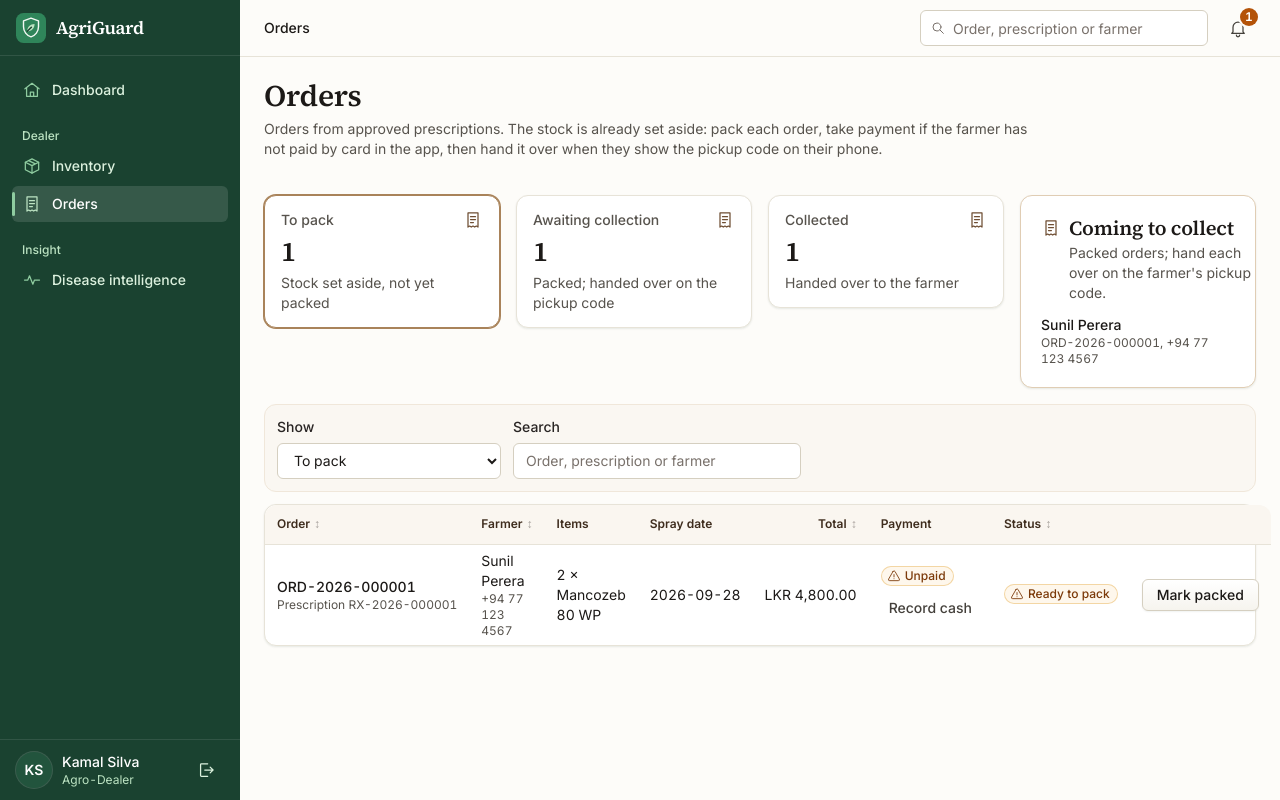
Test case: OrdersPage › records cash taken at the counter after the dealer confirms the amount
The width and height of the screenshot is (1280, 800).
Click the button with aria-label "Record cash: ORD-2026-000001": click(930, 608) [881,592,980,624]
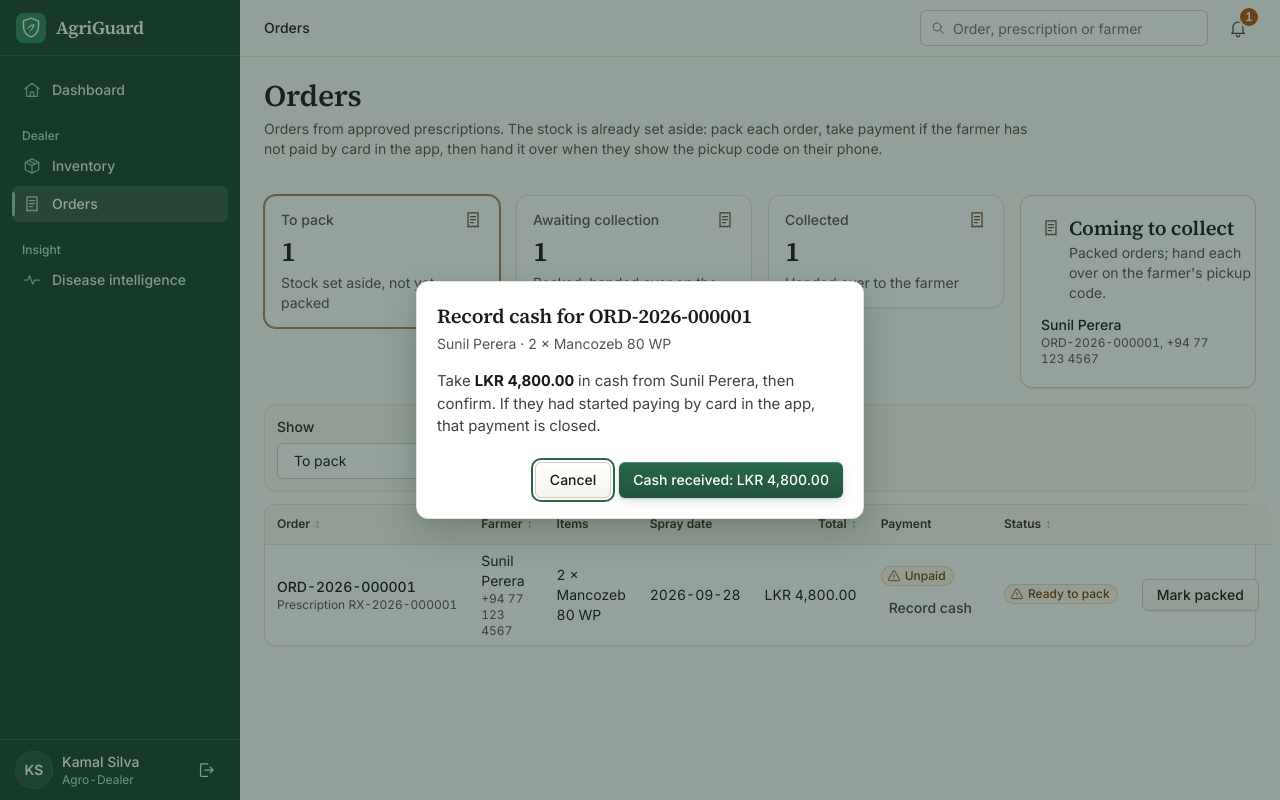
Click the button "Cash received: LKR 4,800.00": click(731, 480) [619,462,843,498]
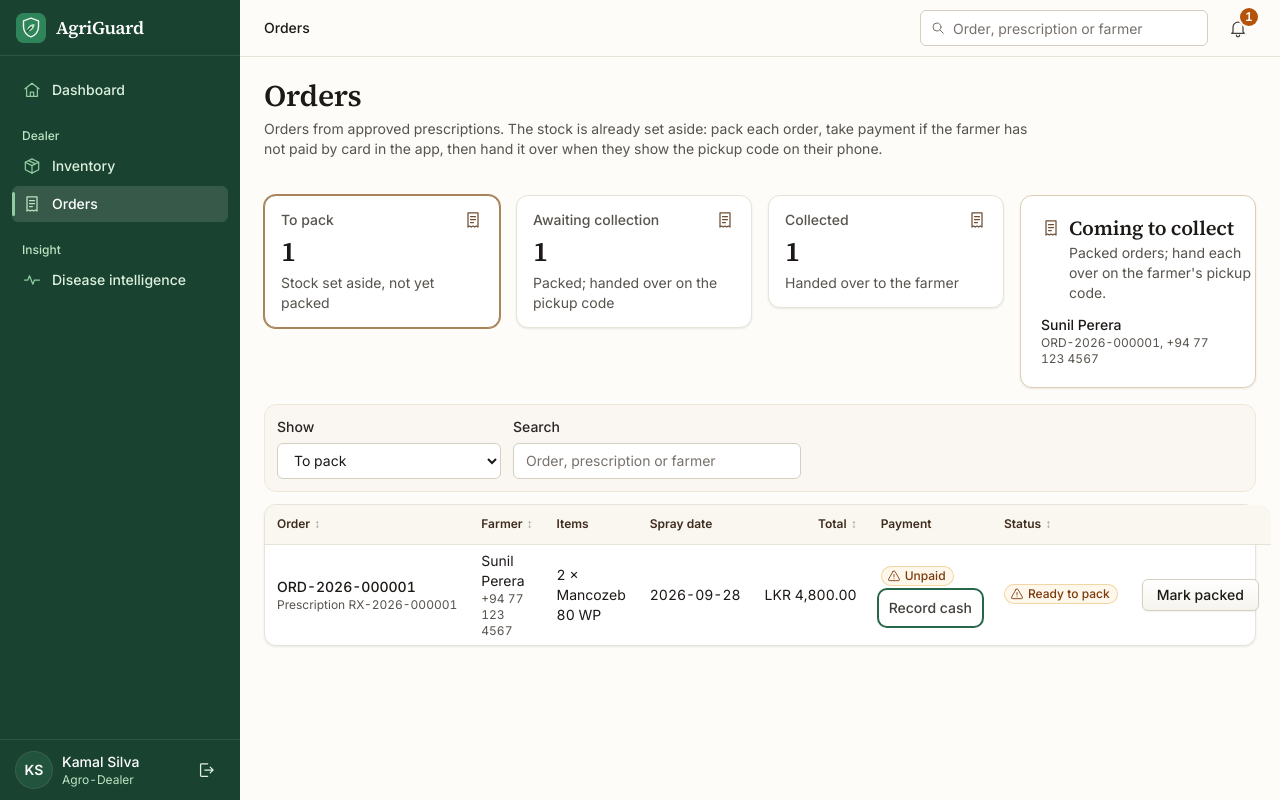
Now the dialog is gone
